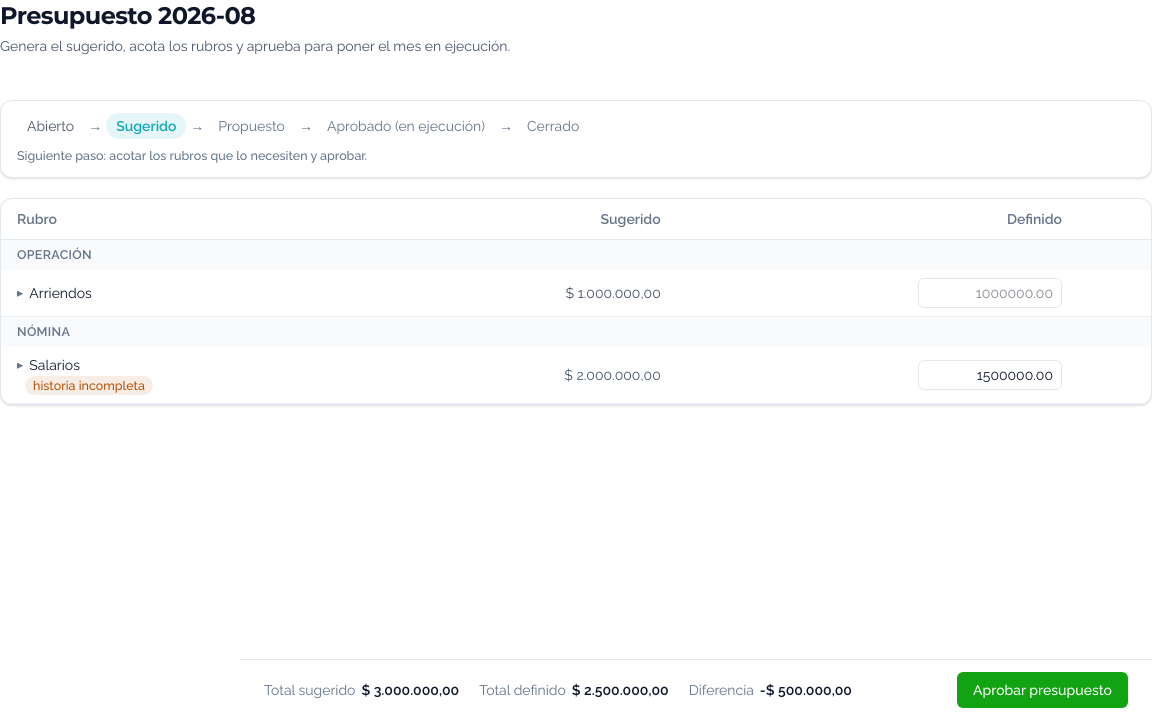
Test: PresupuestoMesPage — aprobar (§5.4) › cada apertura del diálogo genera una key NUEVA
The image size is (1152, 720).
Click the button "Aprobar presupuesto": (1043, 690) [957,672,1128,708]
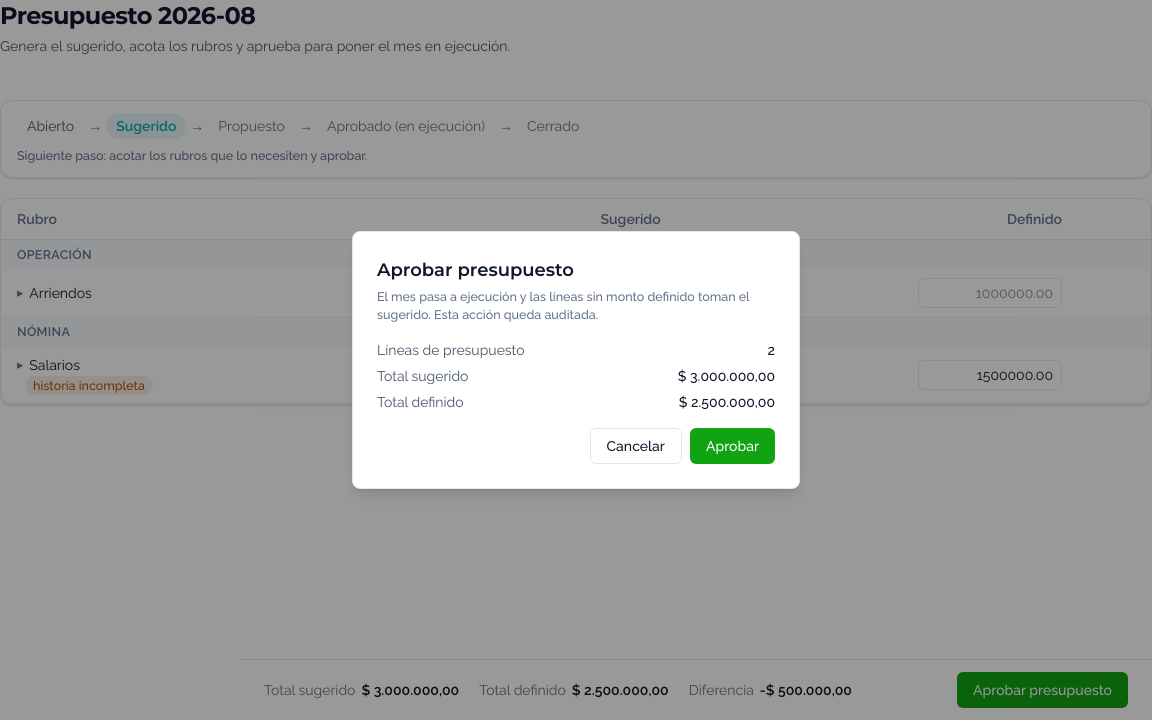
Click the button "Aprobar": (732, 446) [690,428,775,464]
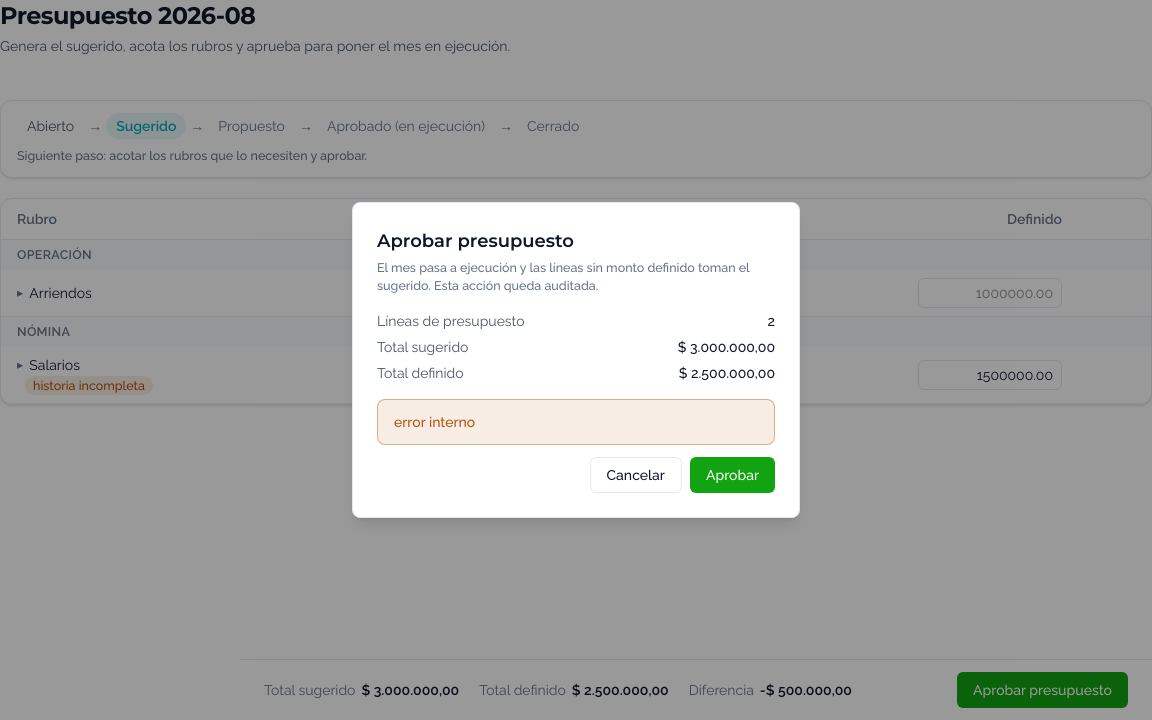
Expected: the text "error interno" is shown, [377,399,775,445]
Click the button "Cancelar": (636, 475) [590,457,682,493]
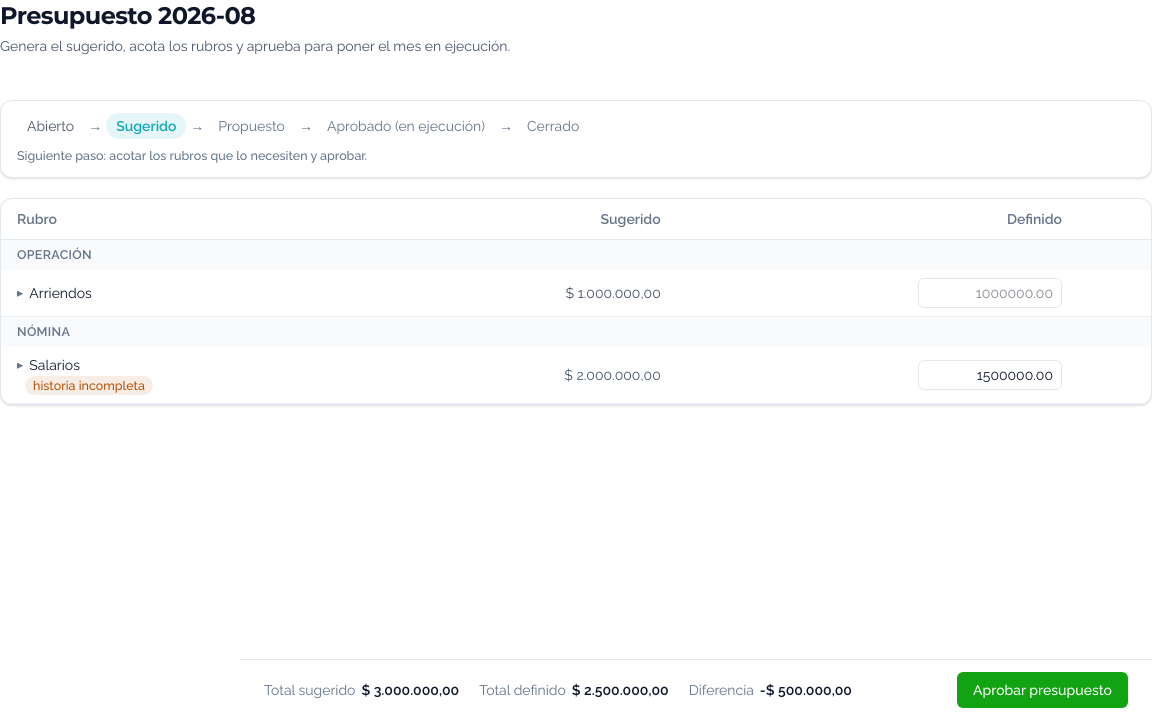
Click the button "Aprobar presupuesto": (1043, 690) [957,672,1128,708]
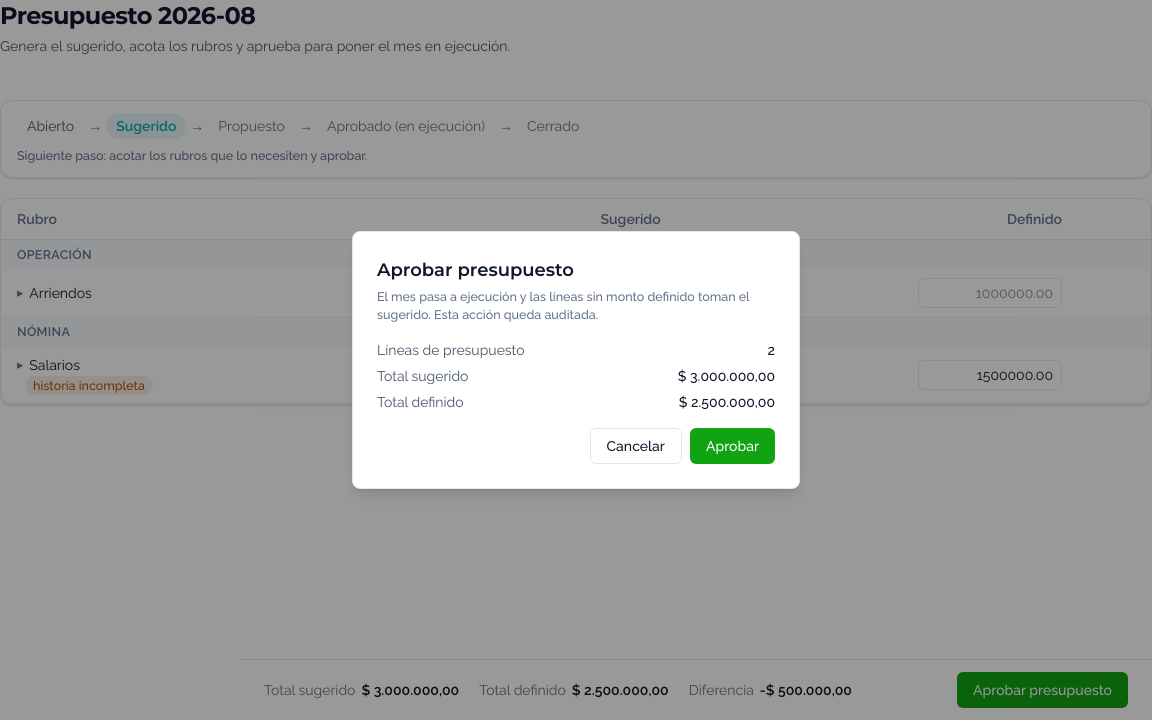
Click the button "Aprobar": (732, 446) [690,428,775,464]
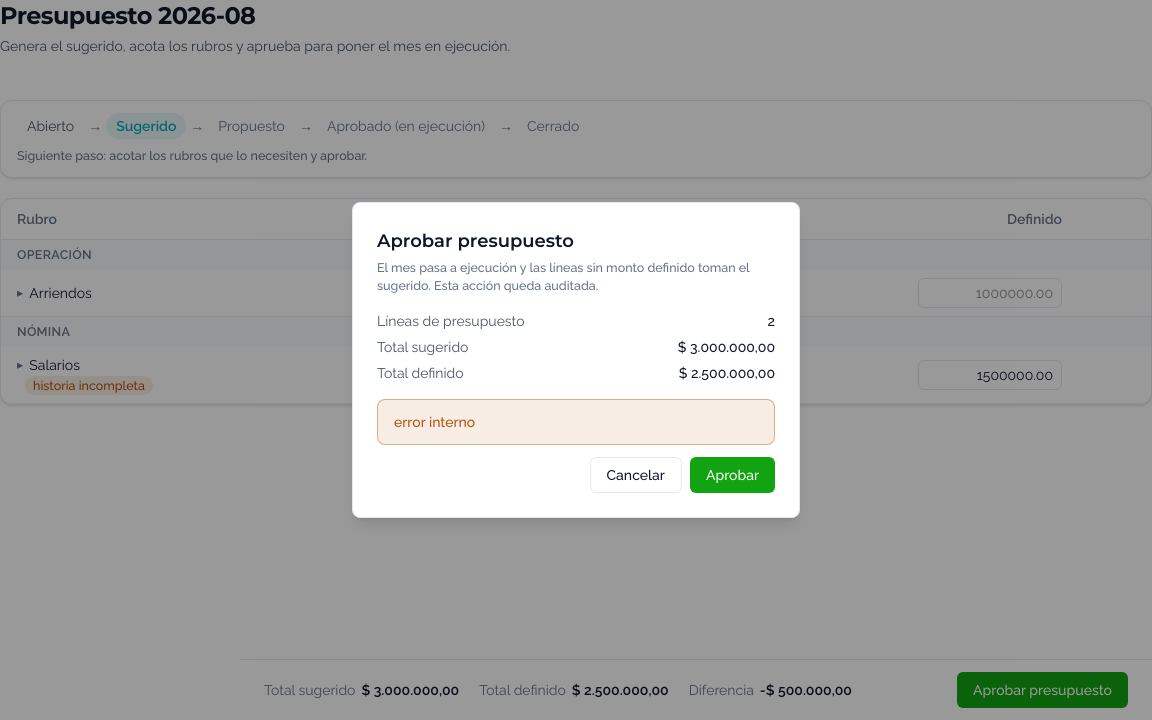
Expected: the text "error interno" is shown, [377,399,775,445]
